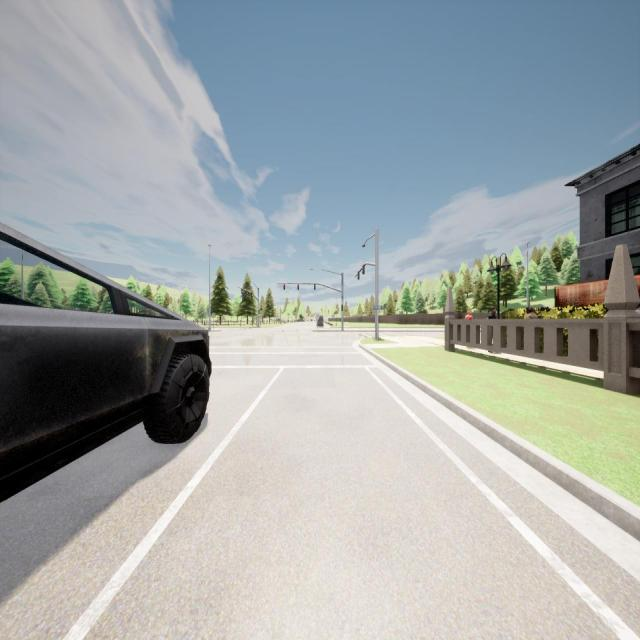Pedestrian: (525, 306, 539, 320), (488, 309, 498, 320), (465, 310, 473, 320)
Traffic_Signs: (373, 306, 383, 310), (316, 314, 319, 320)
Vehicle: (0, 223, 211, 501), (316, 315, 324, 328)
traffic_light: (362, 265, 364, 275), (358, 271, 360, 280), (297, 284, 299, 290), (314, 284, 316, 290), (284, 284, 285, 290), (342, 305, 343, 311)
